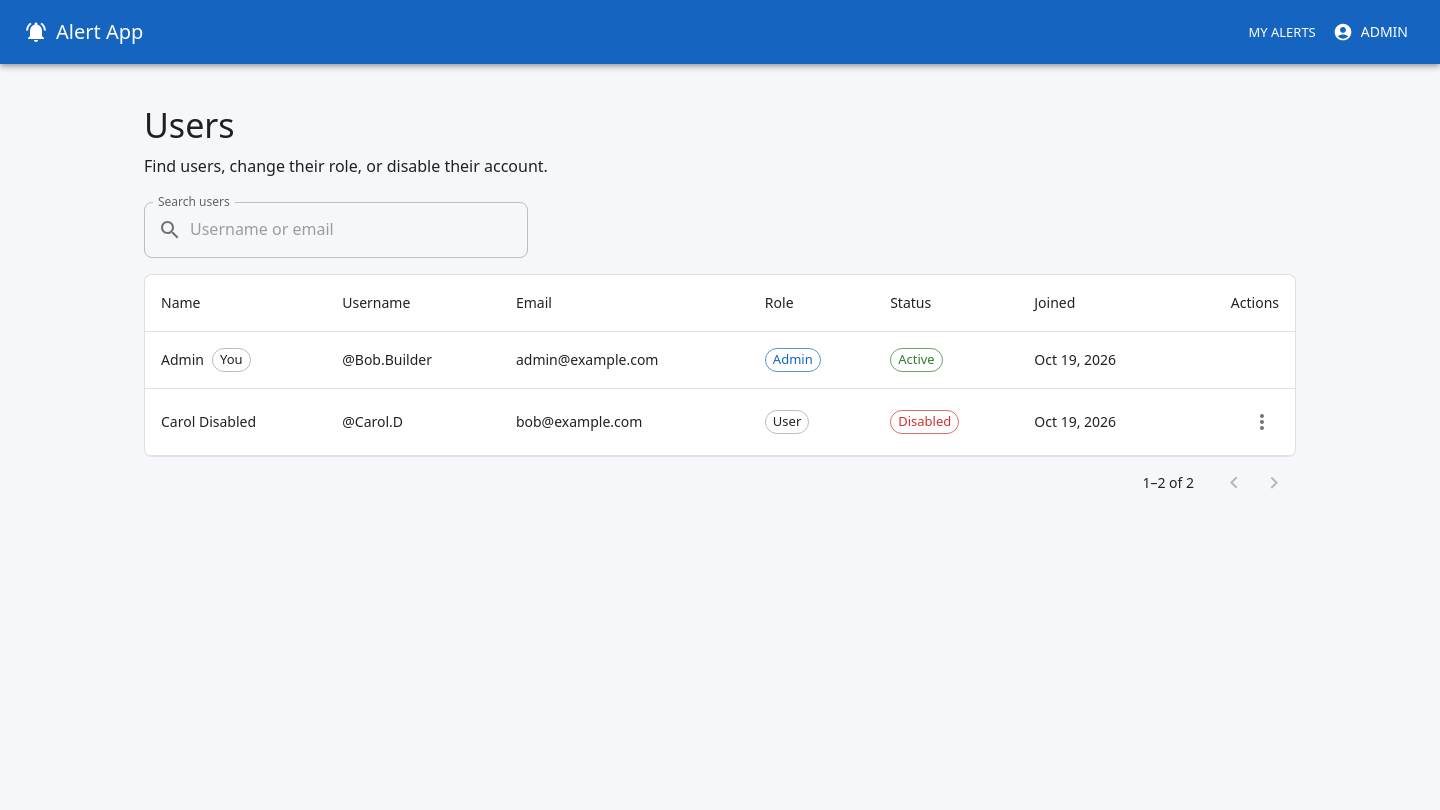
Test case: AdminUsersPage › enables a disabled user without asking
Click the button named "Actions for Carol Disabled" at point(1262, 422), box [1245,405,1279,439]
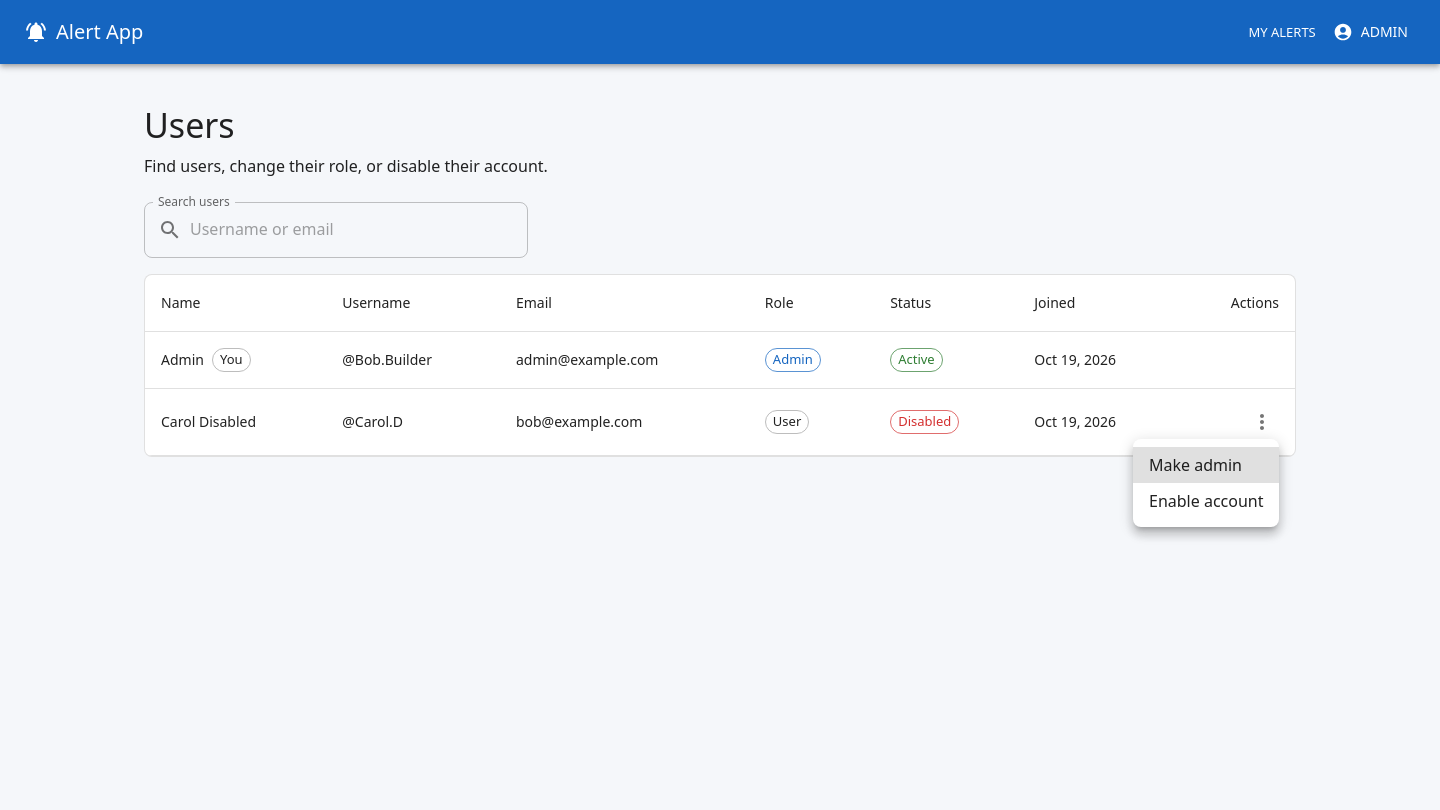
Click the menu item "Enable account" at point(1206, 501), box [1149,490,1264,512]
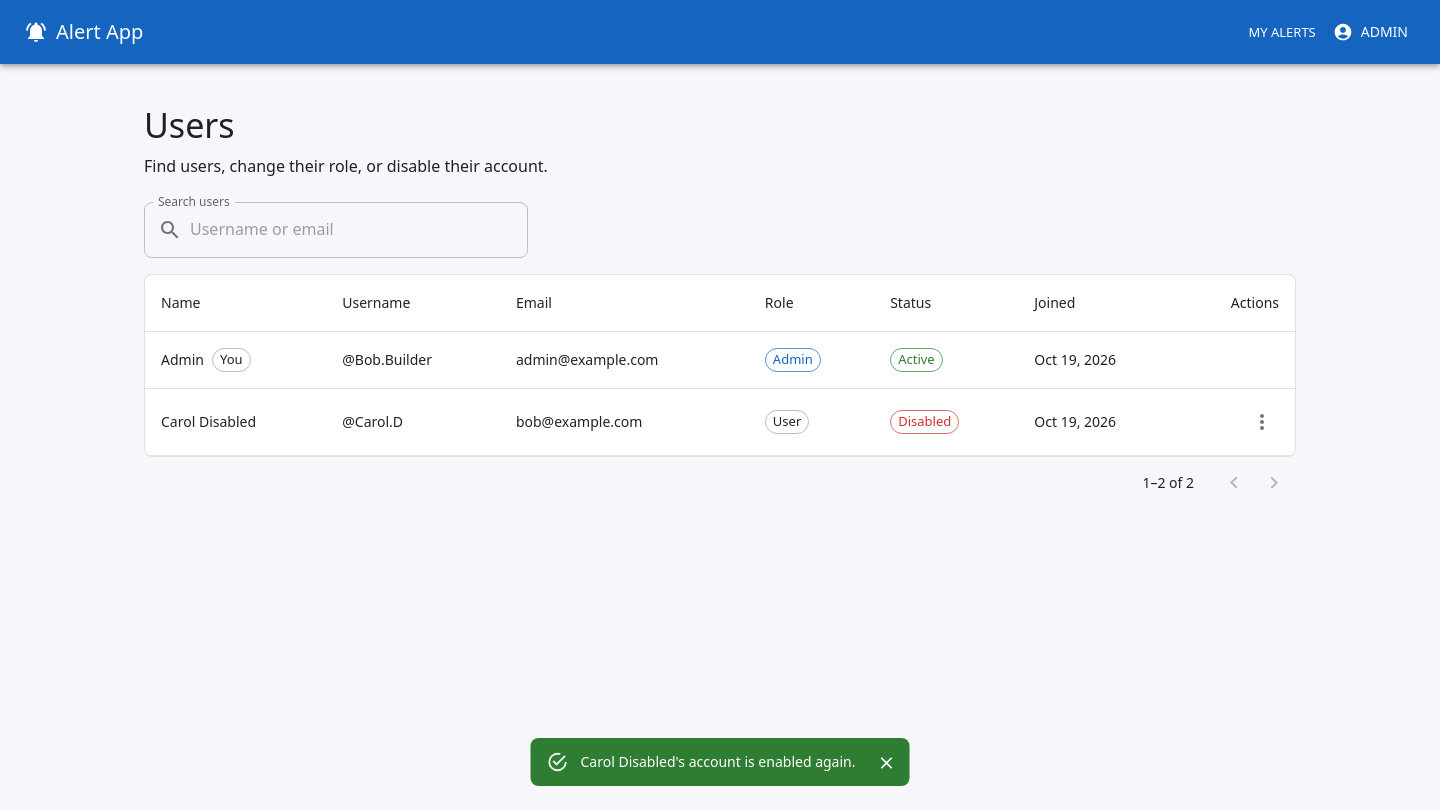
Expected: the text "Carol Disabled's account is enabled again." is shown, [580,752,856,771]
